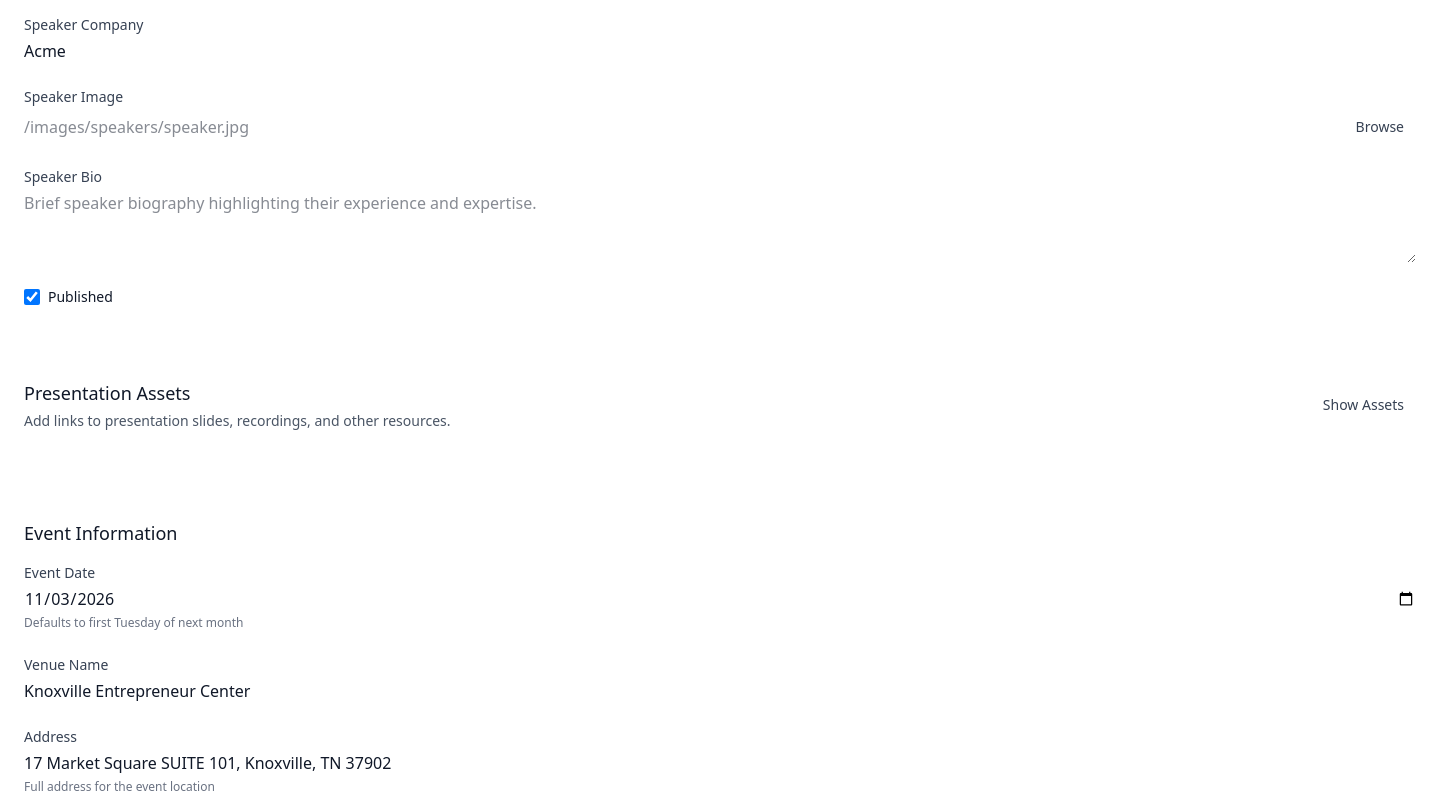
Scenario: BlogPostEditor - assets › renders an asset with no url using its name as the React key
(page scrolled)
Click the button "Show Assets" at (1363, 405), box [1311,389,1416,421]
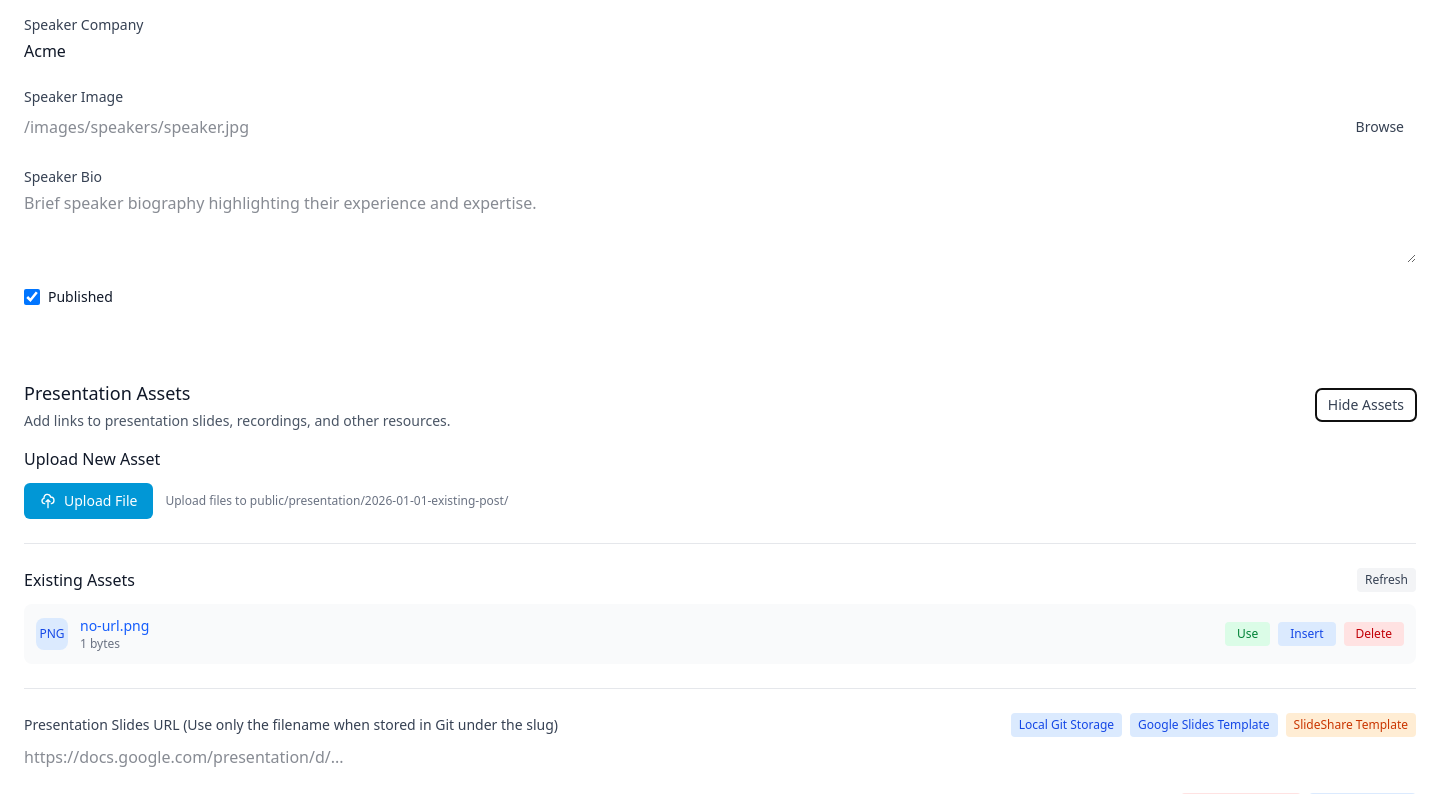
Result: the link "no-url.png" is shown at [80,616,149,635]
